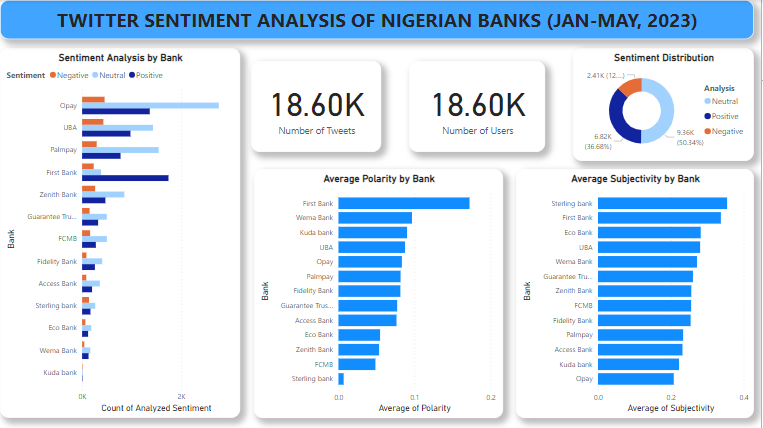

The dashboard page shown, as its layout file describes it:
{"tool":"powerbi","page":{"name":"Page 1","canvas":[1280,720],"ordinal":0},"visuals":[{"type":"card","fields":{"Values":["CountNonNull(processed_bank_tweets.tweet)"]},"box":[422.2,102.6,218.7,153.1],"z":0},{"type":"clusteredBarChart","title":"Sentiment Analysis by Bank","fields":{"Category":["processed_bank_tweets.Bank"],"Series":["processed_bank_tweets.Analysis"],"Y":["CountNonNull(processed_bank_tweets.Analysis)"]},"box":[0,80.7,403.7,622.3],"z":1},{"type":"donutChart","title":"Sentiment Analysis","fields":{"Category":["processed_bank_tweets.Analysis"],"Y":["CountNonNull(processed_bank_tweets.Analysis)"]},"box":[963.8,80.7,304.4,190.1],"z":2},{"type":"card","fields":{"Values":["CountNonNull(processed_bank_tweets.User)"]},"box":[687.9,102.6,228.8,153.1],"z":3},{"type":"clusteredBarChart","title":"Average Polarity by Bank","fields":{"Category":["processed_bank_tweets.Bank"],"Y":["Avg(processed_bank_tweets.Polarity)"]},"box":[427.2,284.3,418.8,418.8],"z":4},{"type":"clusteredBarChart","title":"Average Subjectivity by Bank","fields":{"Category":["processed_bank_tweets.Bank"],"Y":["Avg(processed_bank_tweets.Subjectivity)"]},"box":[867.9,284.3,400.3,418.8],"z":5},{"type":"textbox","box":[0,0,1280,65.6],"z":6}]}

Visuals, with their boxes in screenshot pixels (x1, y1, x2, y2), scaled from the page's 1280x720 canvas onto the 763x428 screenshot:
card - CountNonNull(processed_bank_tweets.tweet): Rect(252, 61, 382, 152)
"Sentiment Analysis by Bank" clusteredBarChart: Rect(0, 48, 241, 418)
"Sentiment Analysis" donutChart: Rect(575, 48, 756, 161)
card - CountNonNull(processed_bank_tweets.User): Rect(410, 61, 546, 152)
"Average Polarity by Bank" clusteredBarChart: Rect(255, 169, 504, 418)
"Average Subjectivity by Bank" clusteredBarChart: Rect(517, 169, 756, 418)
textbox: Rect(0, 0, 762, 39)
